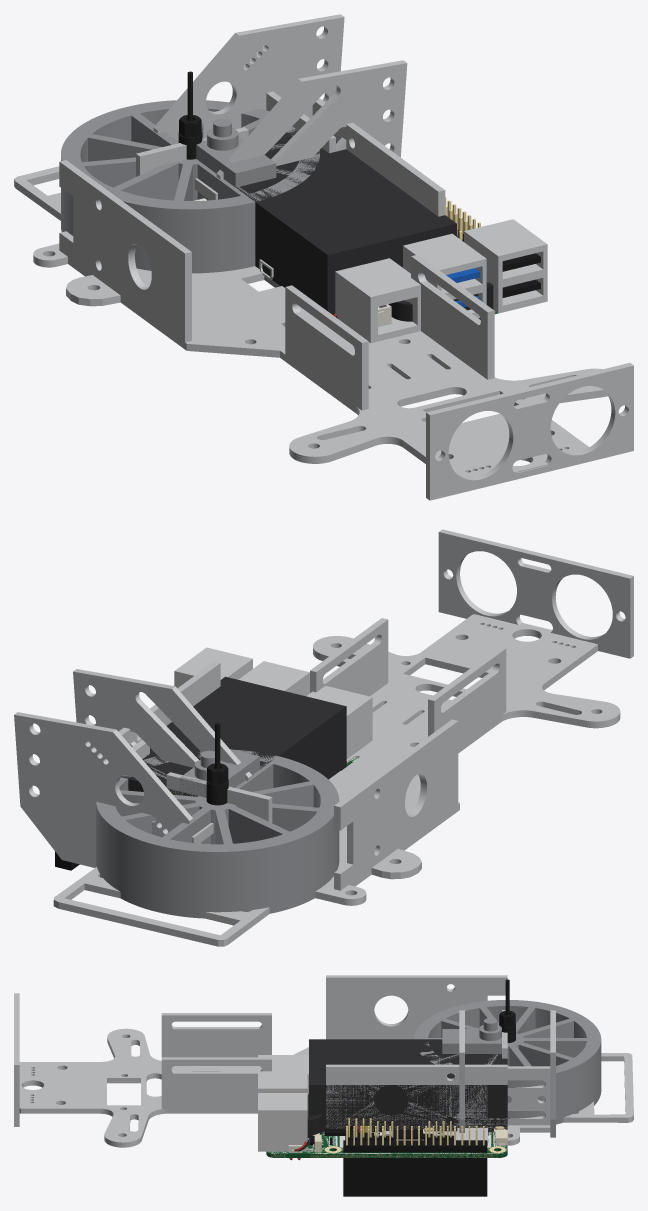
File: parts.glb
The picture shows the model from 3 angles, top to bottom: view 1: azimuth 30°, elevation 25°; view 2: azimuth 150°, elevation 25°; view 3: azimuth 270°, elevation 25°; orthographic projection. The views are drawn at different scales.
Visible parts, largest first — view 1: PX-V40-DEF-PLATE-A, PX-V40-DEF-PLATE-C, PX-V40-DEF-BATTERY, PX-V40-DEF-WHEEL-FRONT, PX-V40-DEF-PI5, PX-V40-DEF-WHEEL-REAR, PX-V40-DEF-SERVO-PAN, PX-V40-DEF-PLATE-D, PX-V40-DEF-ROBOT-HAT; view 2: PX-V40-DEF-PLATE-A, PX-V40-DEF-WHEEL-FRONT, PX-V40-DEF-PLATE-C, PX-V40-DEF-BATTERY, PX-V40-DEF-PLATE-D, PX-V40-DEF-PI5, PX-V40-DEF-WHEEL-REAR, PX-V40-DEF-SERVO-PAN, PX-V40-DEF-PLATE-G; view 3: PX-V40-DEF-PLATE-A, PX-V40-DEF-BATTERY, PX-V40-DEF-PI5, PX-V40-DEF-WHEEL-FRONT, PX-V40-DEF-ROBOT-HAT, PX-V40-DEF-PLATE-C, PX-V40-DEF-WHEEL-REAR, PX-V40-DEF-PLATE-D, PX-V40-DEF-SERVO-PAN.
Boxes of the visible parts, x1,y1,x2,y2 form: PX-V40-DEF-PLATE-A: (59, 98, 633, 500); PX-V40-DEF-PLATE-C: (153, 14, 407, 179); PX-V40-DEF-BATTERY: (236, 129, 456, 314); PX-V40-DEF-WHEEL-FRONT: (61, 100, 319, 273); PX-V40-DEF-PI5: (259, 197, 547, 343); PX-V40-DEF-WHEEL-REAR: (61, 100, 319, 209); PX-V40-DEF-SERVO-PAN: (196, 118, 276, 187); PX-V40-DEF-PLATE-D: (14, 166, 192, 306); PX-V40-DEF-ROBOT-HAT: (333, 228, 495, 326); PX-V40-DEF-PLATE-A: (101, 529, 633, 890); PX-V40-DEF-WHEEL-FRONT: (96, 750, 339, 918); PX-V40-DEF-PLATE-C: (14, 669, 251, 867); PX-V40-DEF-BATTERY: (121, 676, 346, 796); PX-V40-DEF-PLATE-D: (53, 836, 421, 946); PX-V40-DEF-PI5: (174, 647, 372, 766); PX-V40-DEF-WHEEL-REAR: (96, 749, 338, 851); PX-V40-DEF-SERVO-PAN: (179, 749, 259, 797); PX-V40-DEF-PLATE-G: (315, 881, 366, 905); PX-V40-DEF-PLATE-A: (14, 975, 507, 1147); PX-V40-DEF-BATTERY: (309, 1039, 507, 1132); PX-V40-DEF-PI5: (258, 1055, 507, 1157); PX-V40-DEF-WHEEL-FRONT: (414, 1000, 601, 1124); PX-V40-DEF-ROBOT-HAT: (266, 1094, 507, 1196); PX-V40-DEF-PLATE-C: (459, 1010, 555, 1137); PX-V40-DEF-WHEEL-REAR: (414, 1000, 600, 1072); PX-V40-DEF-PLATE-D: (434, 1053, 633, 1140); PX-V40-DEF-SERVO-PAN: (442, 1018, 507, 1053).
Size of the model in its own units: 0.1061 by 0.0585 by 0.2185.
